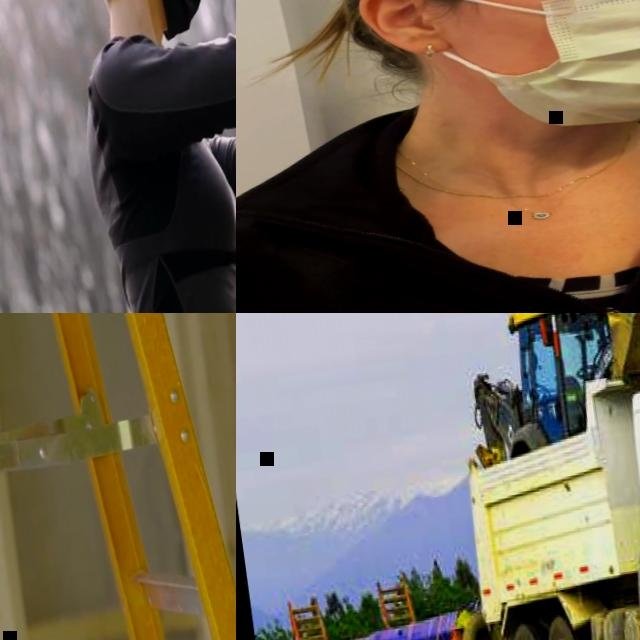Mask: (394, 0, 640, 150), (148, 0, 209, 38)
NO-Safety Vest: (236, 64, 640, 313), (73, 38, 236, 313)
Person: (236, 0, 640, 313), (38, 0, 236, 313)
machinery: (452, 330, 640, 640), (451, 313, 640, 469)
